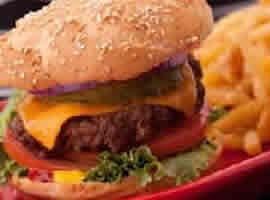hamburger_buns: (1, 1, 211, 66)
